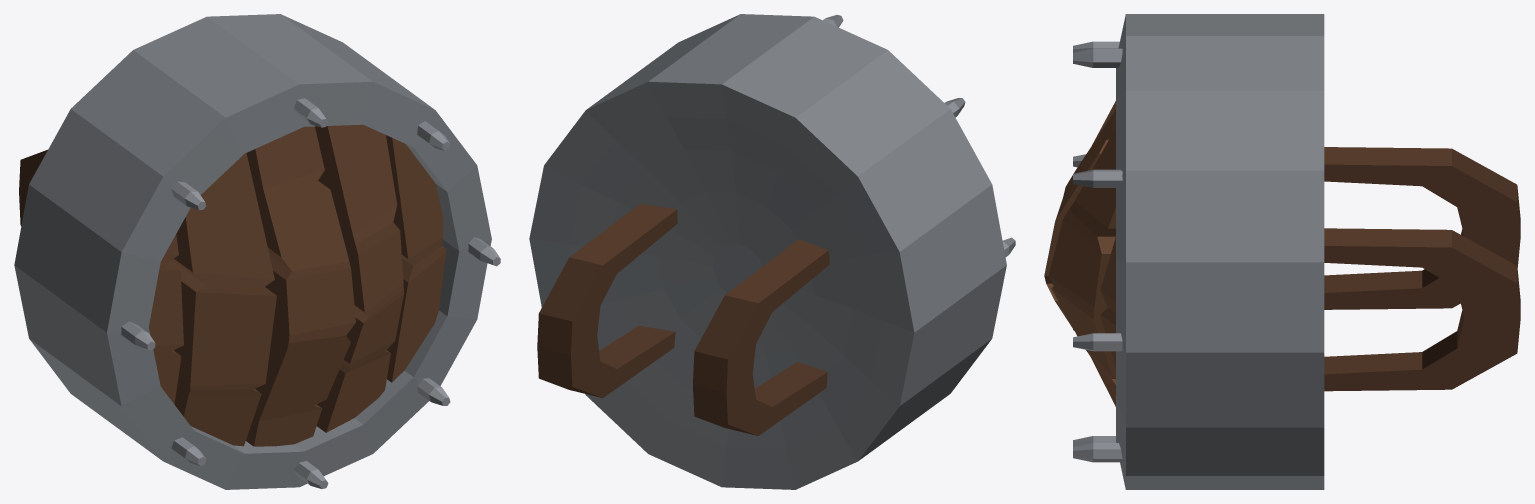
Rendered from gild_shield.glb.
The picture shows the model from 3 angles, left to right: view 1: azimuth 30°, elevation 25°; view 2: azimuth 150°, elevation 25°; view 3: azimuth 270°, elevation 25°; orthographic projection. The views are drawn at different scales.
Size of the model in its own units: 2 by 2 by 2.
